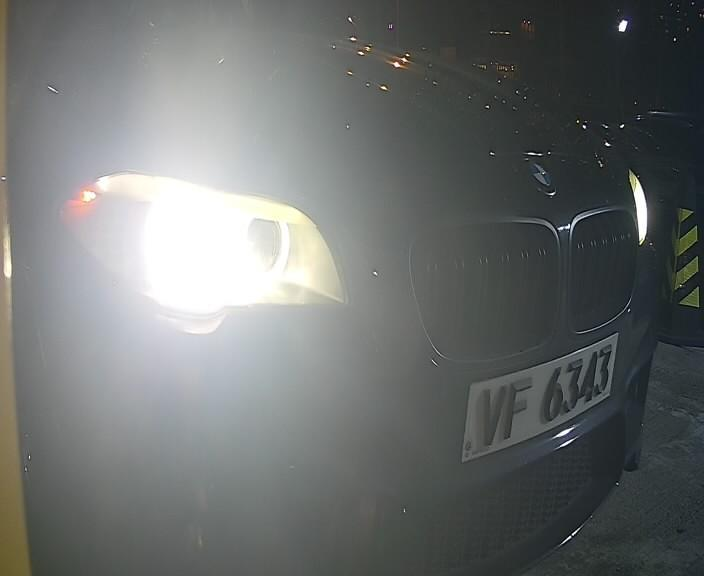privatecar: (2, 6, 668, 520)
